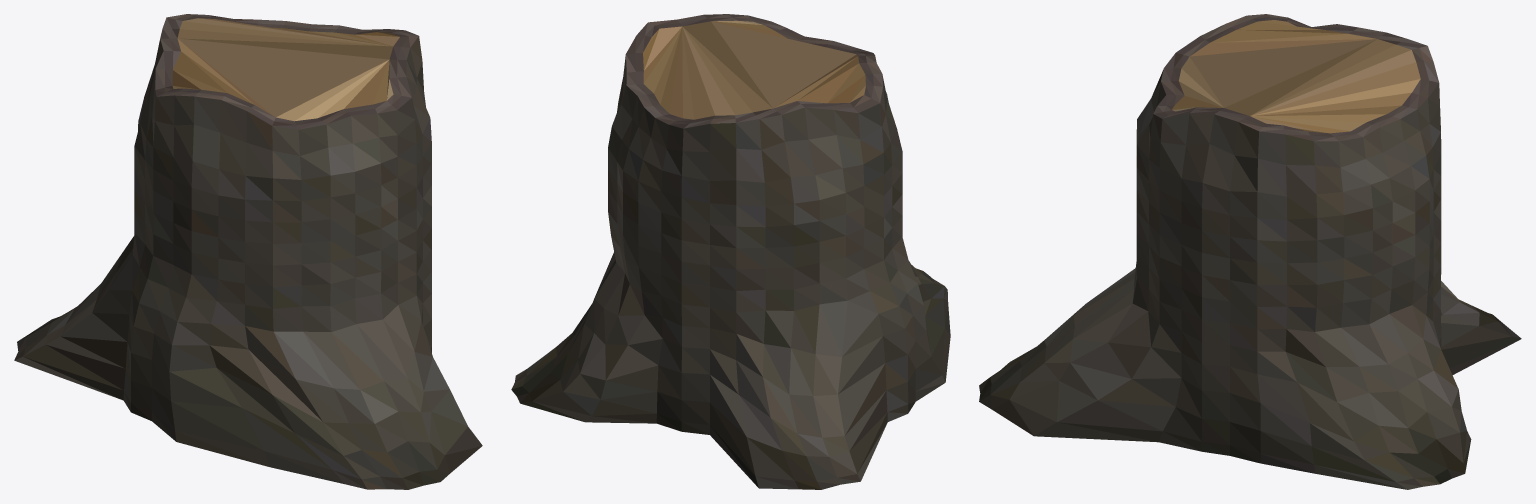
File: r32_stumpf_1.glb
3 views of the same model, side by side, from view 1: azimuth 30°, elevation 25°; view 2: azimuth 150°, elevation 25°; view 3: azimuth 270°, elevation 25° (orthographic). The views are drawn at different scales.
Visible parts, largest first — view 1: stumpf; view 2: stumpf; view 3: stumpf.
Boxes of the visible parts, <box> form: stumpf: <box>14,14,482,489</box>; stumpf: <box>511,14,950,489</box>; stumpf: <box>979,14,1521,489</box>.
Bounding box in the file's own units: 1.22 × 1 × 1.5.
